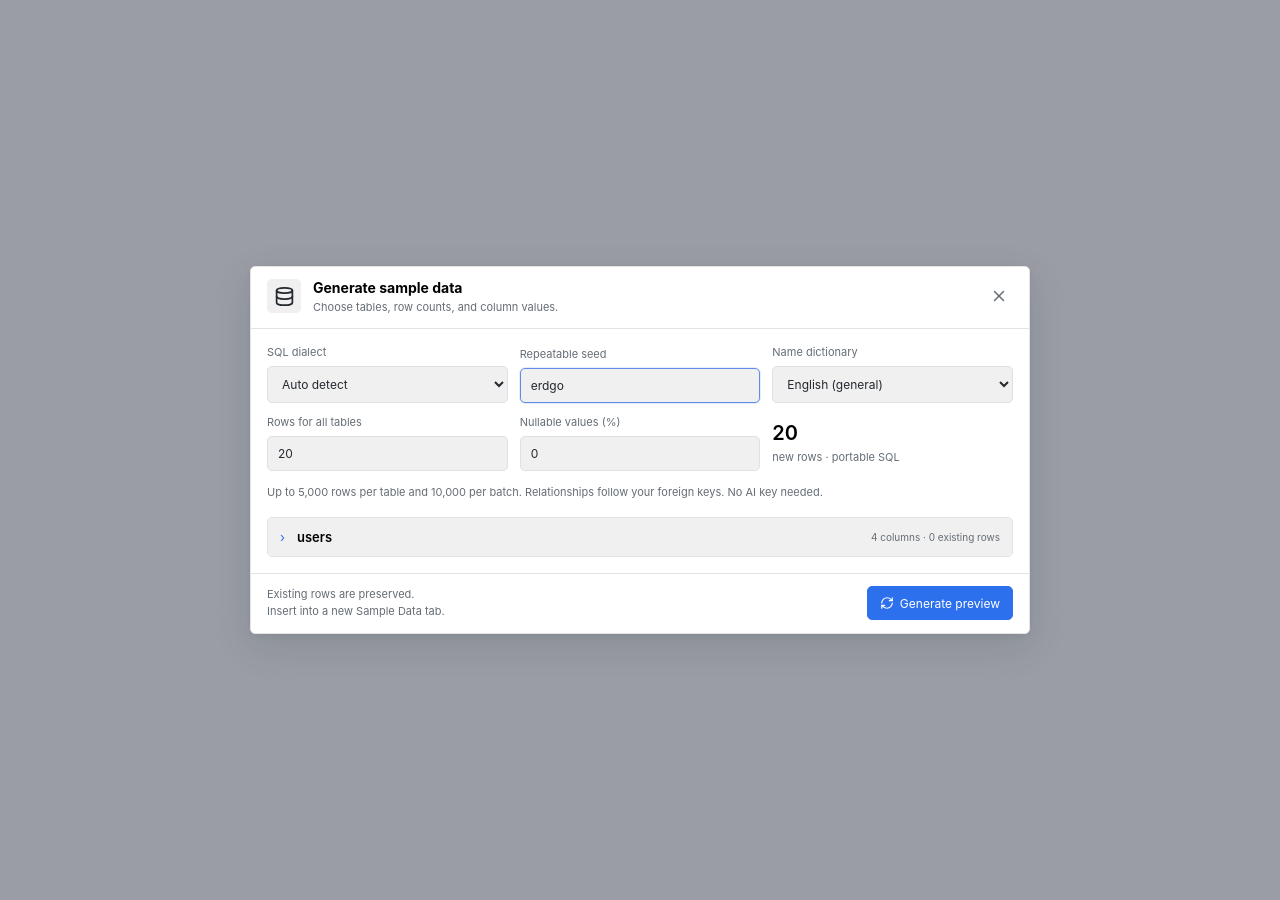
Test: sample data workbench › mounts column controls only for expanded tables and preserves edited settings
Click the text "users" at (315, 537), box [297,529,332,545]
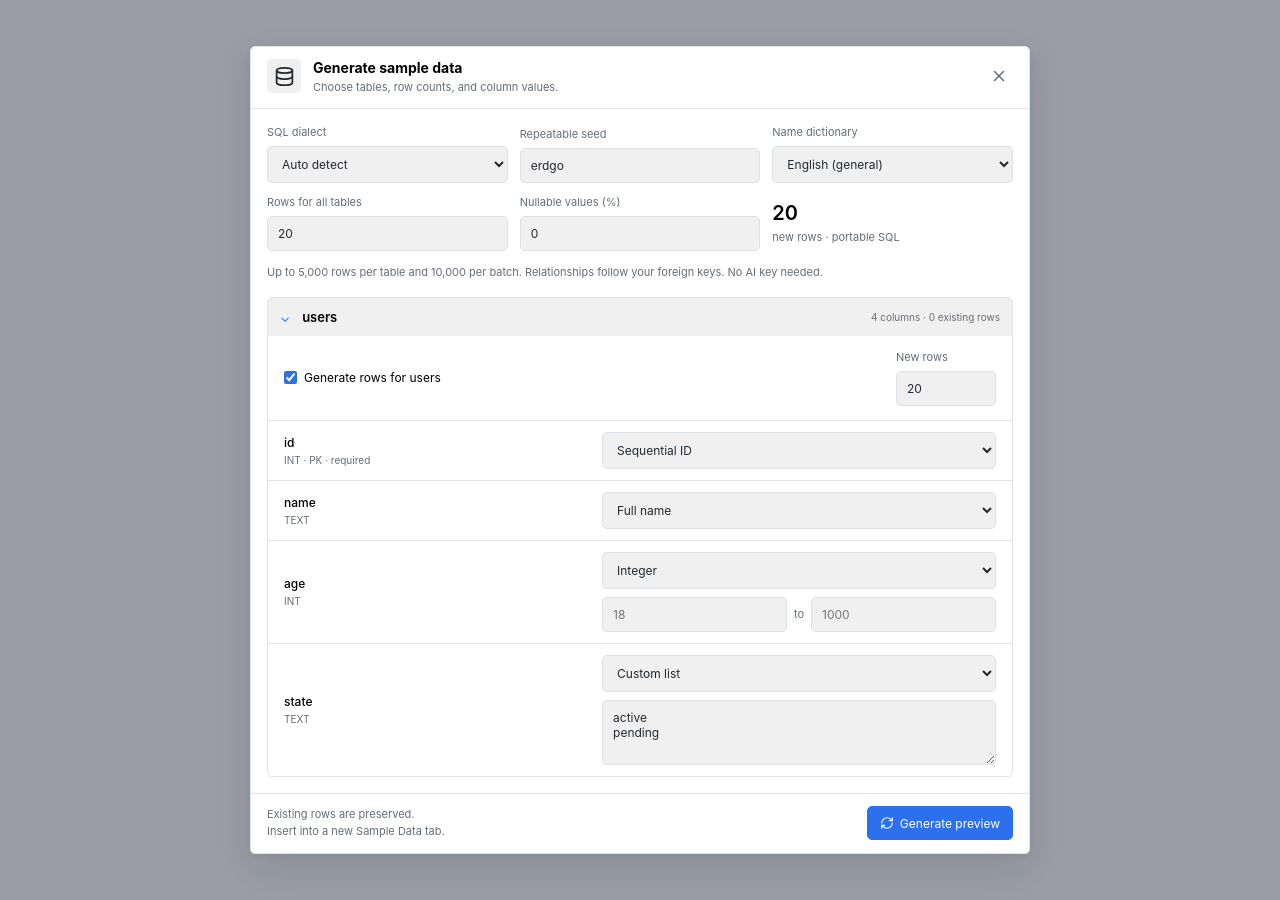
Select "Company" in the dropdown named "Generator for users.name" at (799, 510), box [602,492,996,529]
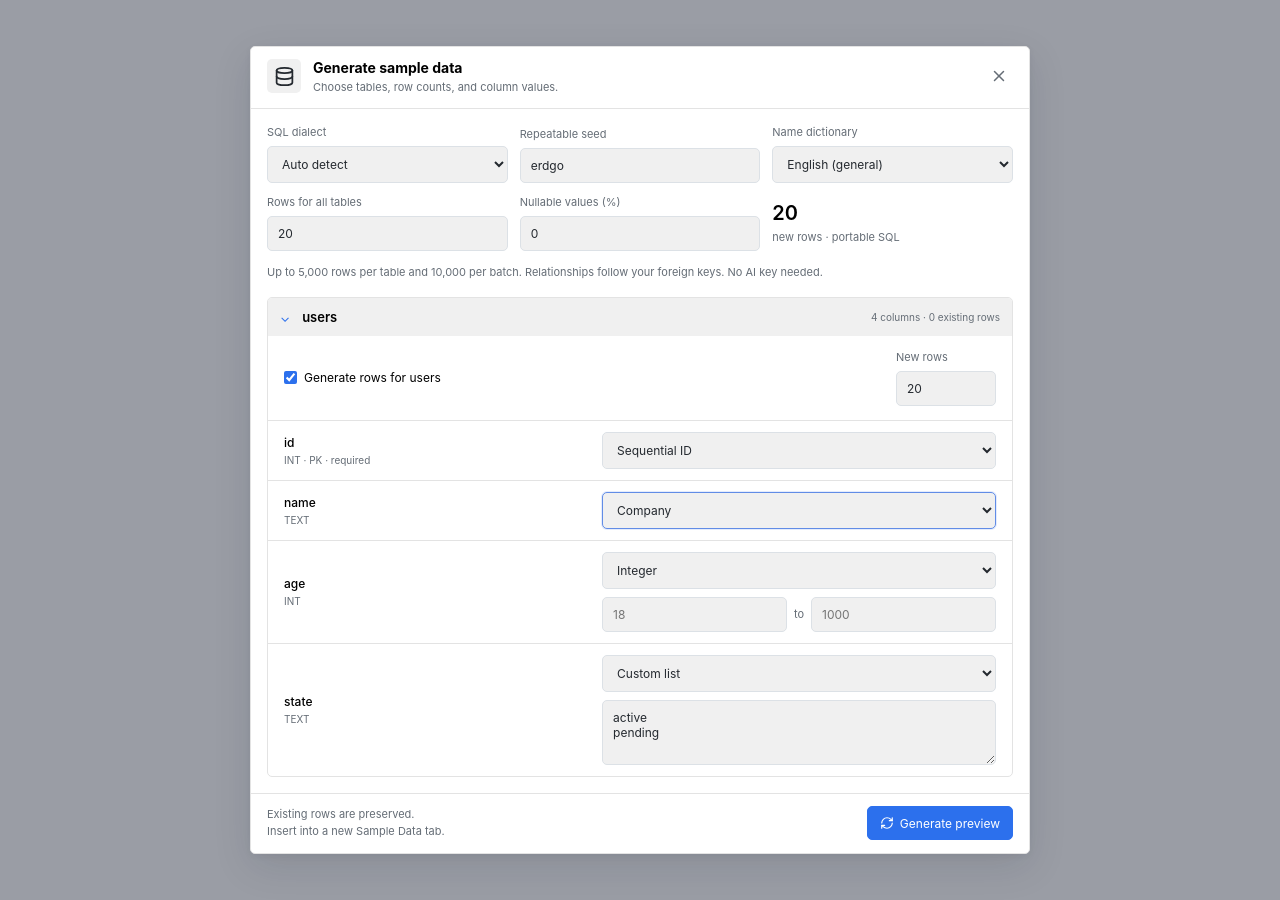
Click the text "users" at (320, 317), box [302,309,337,325]
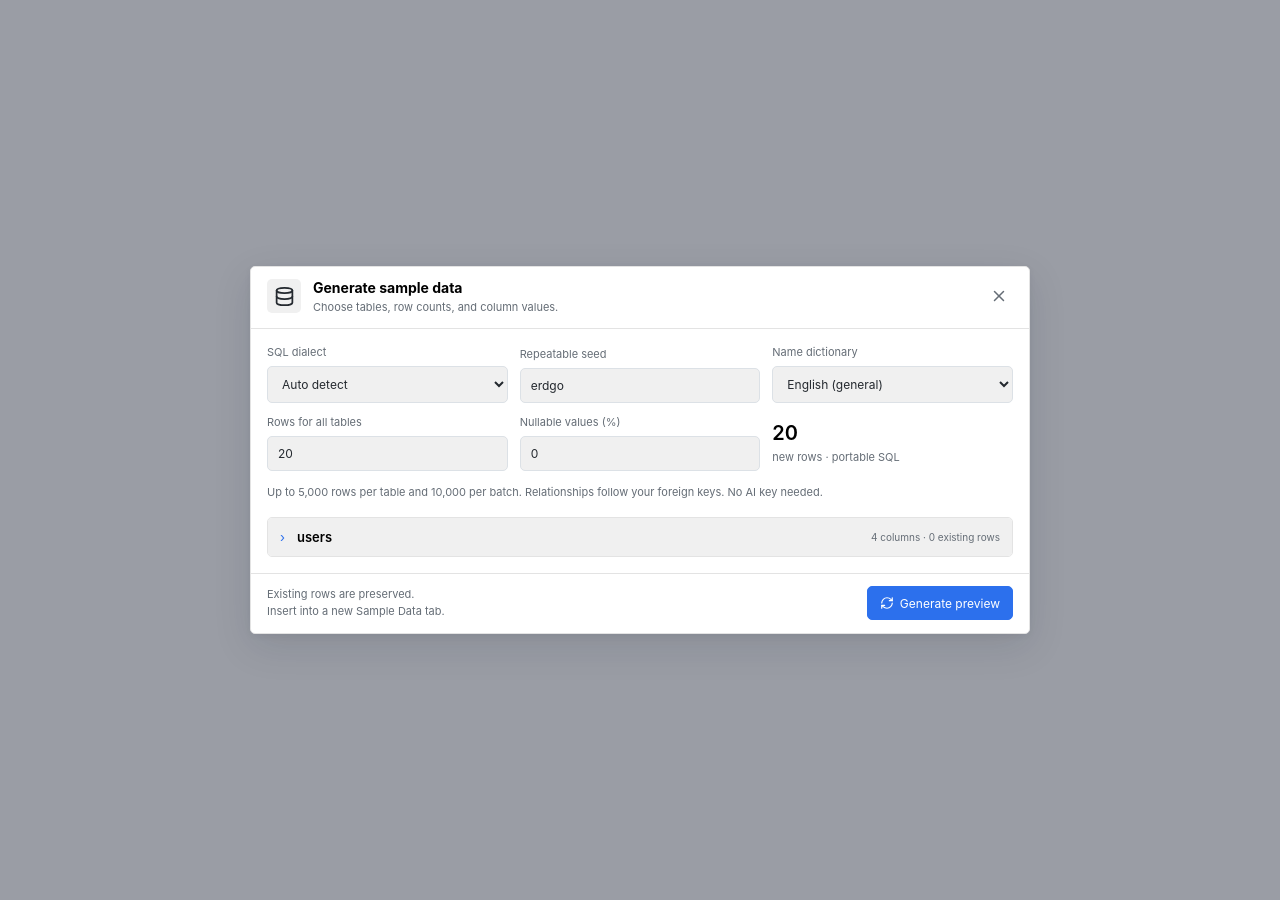
Click the text "users" at (315, 537), box [297,529,332,545]
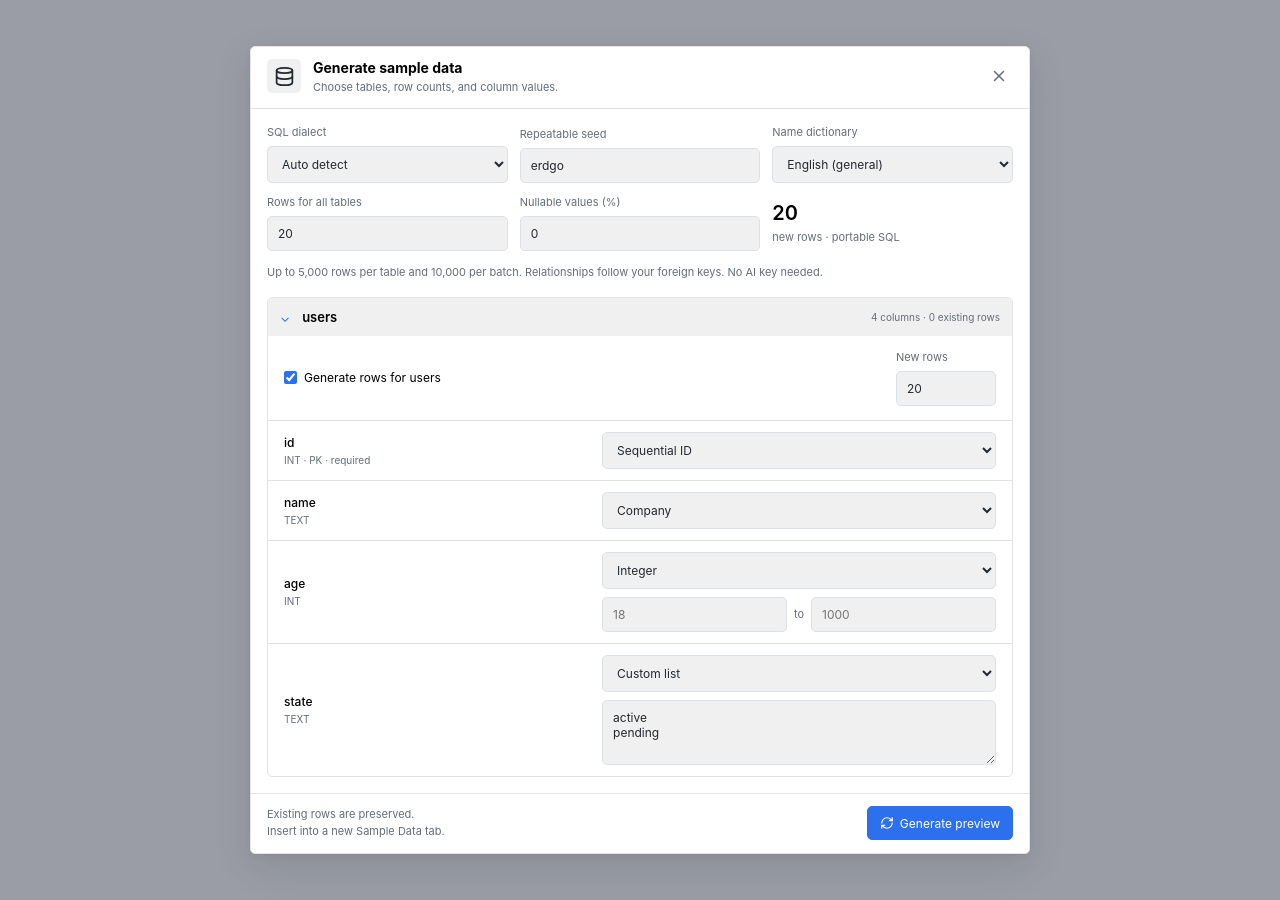
Check: the dropdown named "Generator for users.name" shows "Company", box [602,492,996,529]
